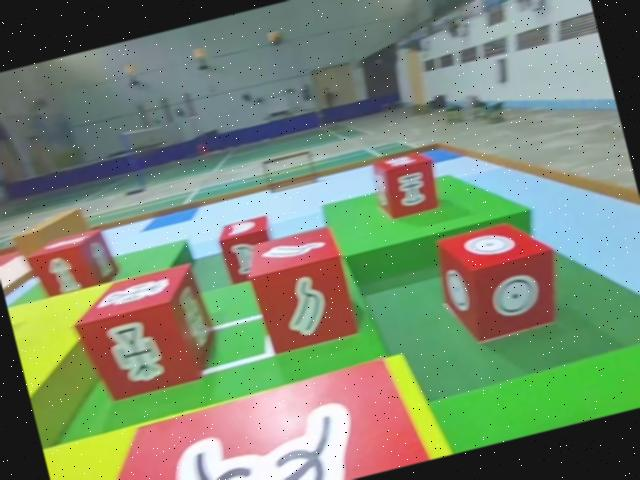R2 Real: (55, 346, 432, 480), (63, 260, 225, 409), (426, 210, 573, 352), (238, 221, 363, 359), (22, 223, 123, 303), (364, 143, 445, 226), (214, 212, 284, 288)
